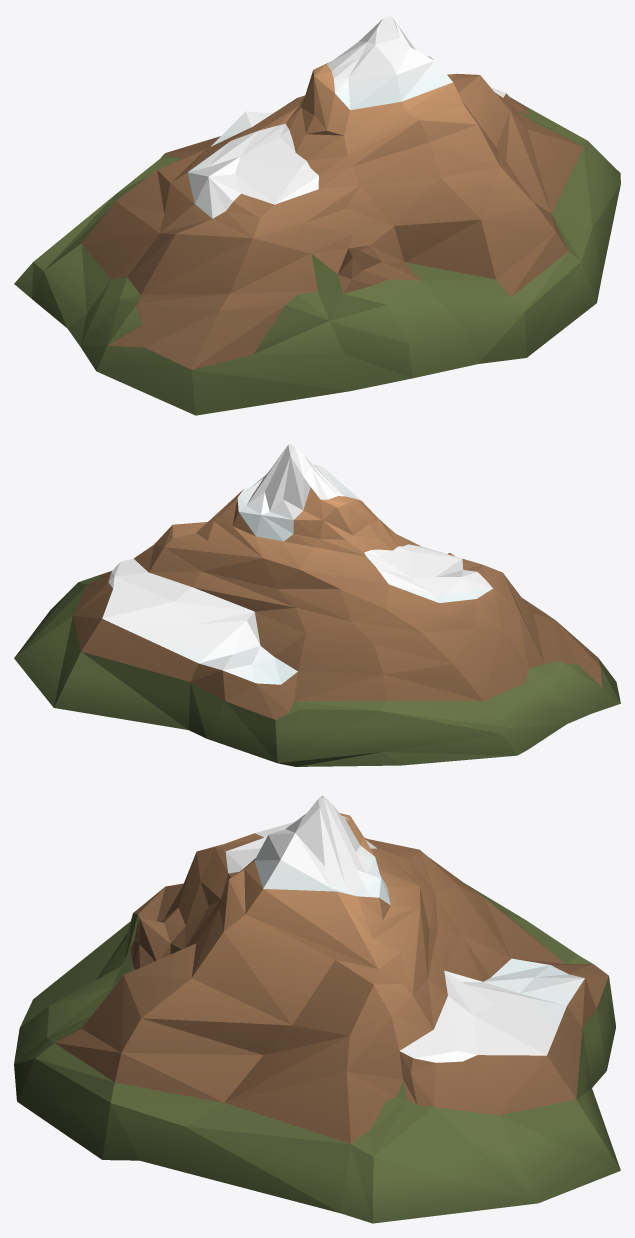
File: Mountain-03.FBX
3 views of the same model, one above another, from view 1: azimuth 30°, elevation 25°; view 2: azimuth 150°, elevation 25°; view 3: azimuth 270°, elevation 25° (orthographic). The views are drawn at different scales.
Visible parts, largest first — view 1: Mountain-03; view 2: Mountain-03; view 3: Mountain-03.
Part boxes in pixels (x1=…): Mountain-03: x1=14, y1=14, x2=620, y2=415; Mountain-03: x1=14, y1=444, x2=620, y2=766; Mountain-03: x1=14, y1=795, x2=620, y2=1223.
Bounding box in the file's own units: 29118 × 12636 × 21871.
Materials: 1 (1 with a texture image).
